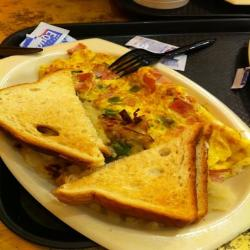bread: (56, 132, 220, 227), (1, 72, 110, 169)
omelette: (54, 43, 249, 184)
